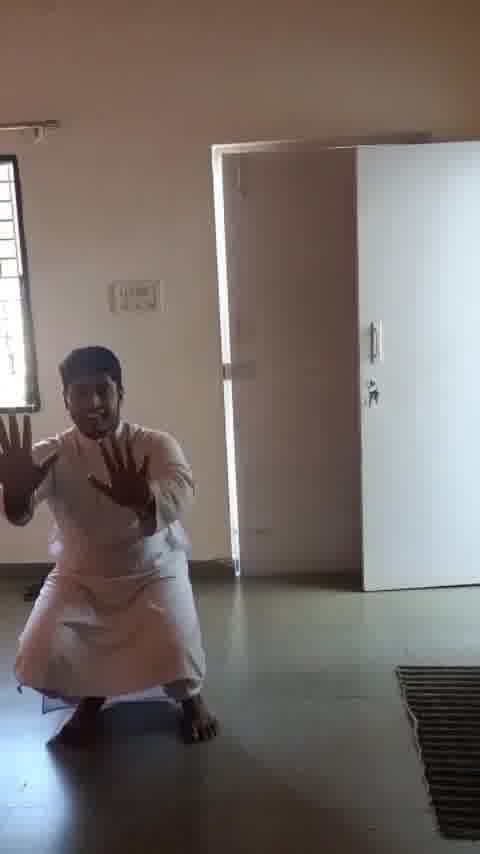duck: (5, 368, 228, 752)
